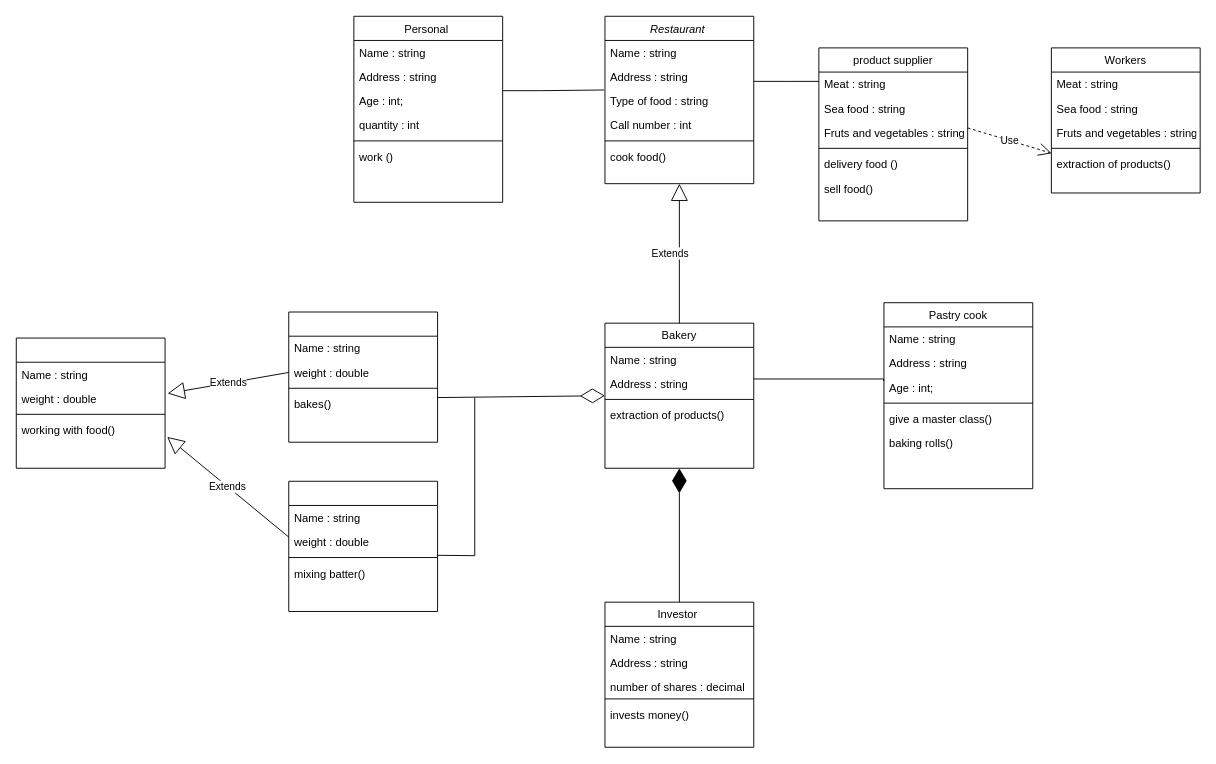
Some shapes in this 1216 by 764 pixel diagram are drawn without their labels. The shapes that lost their labels are listed below. From the top down, each one's box as (x1, y1, x2, y2) in pixels, then its label:
(288, 311, 438, 442): Oven
(15, 337, 165, 468): Kitchen accessories
(288, 480, 438, 611): Mixer
